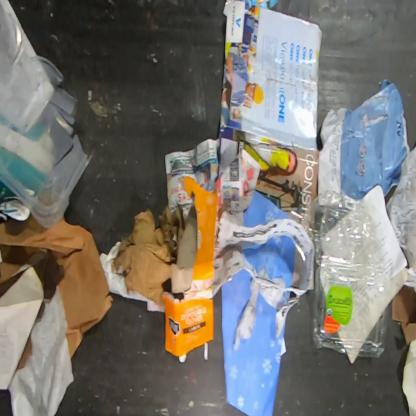cardboard: (0, 212, 113, 361), (318, 80, 408, 198), (112, 205, 184, 309), (392, 286, 416, 344)
rigid_plastic: (0, 0, 92, 228)
soft_plastic: (300, 190, 388, 358), (386, 146, 415, 284)
